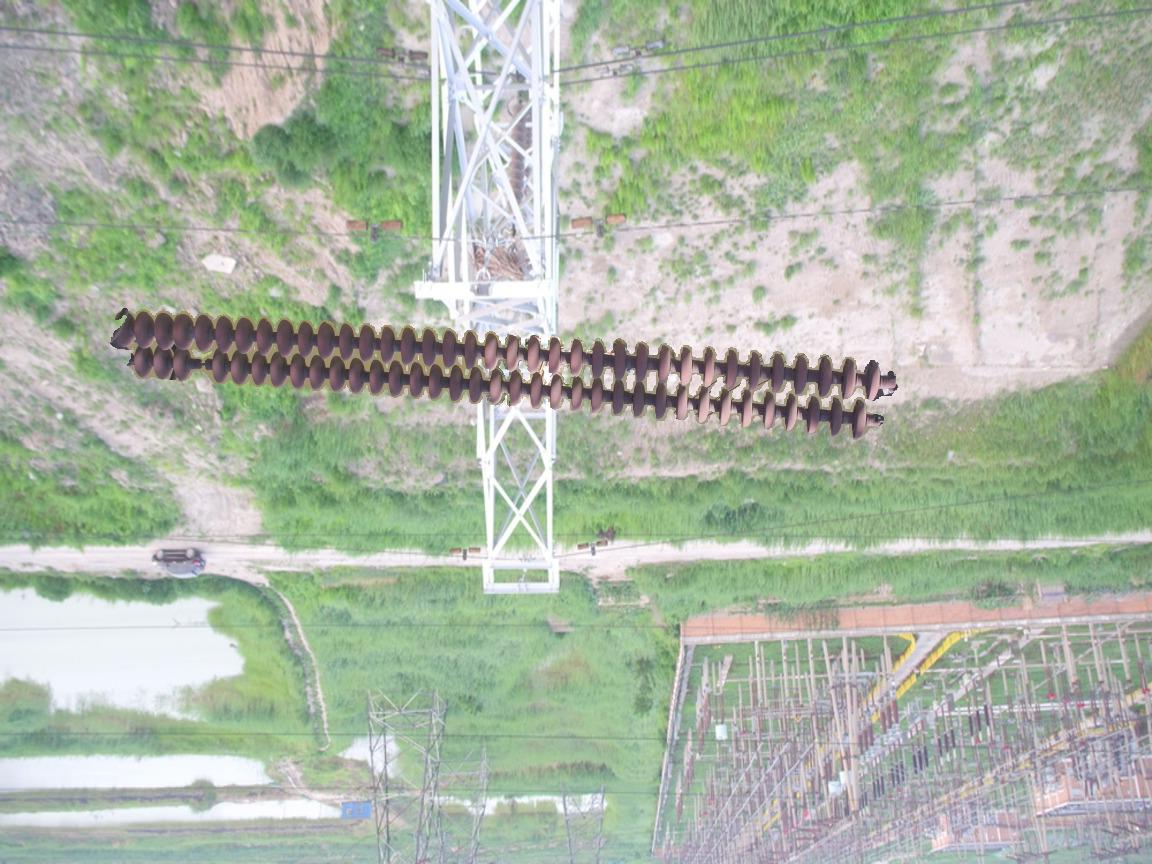insulator: (112, 304, 889, 443), (506, 96, 531, 203)
insulator_stringdrop: (171, 348, 230, 387)
